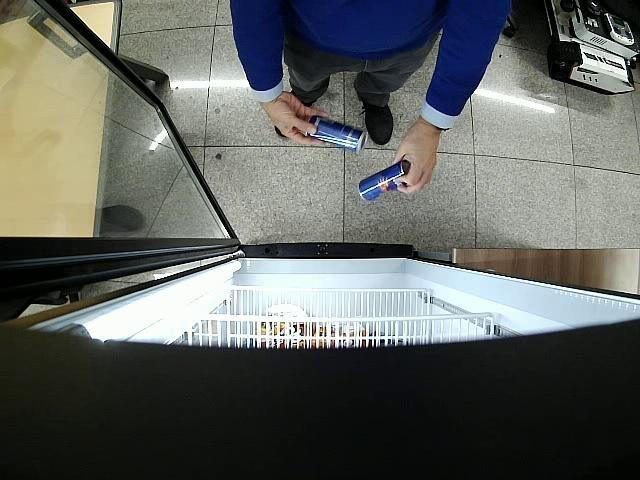16_hot6: (306, 115, 367, 154), (358, 160, 411, 202)
